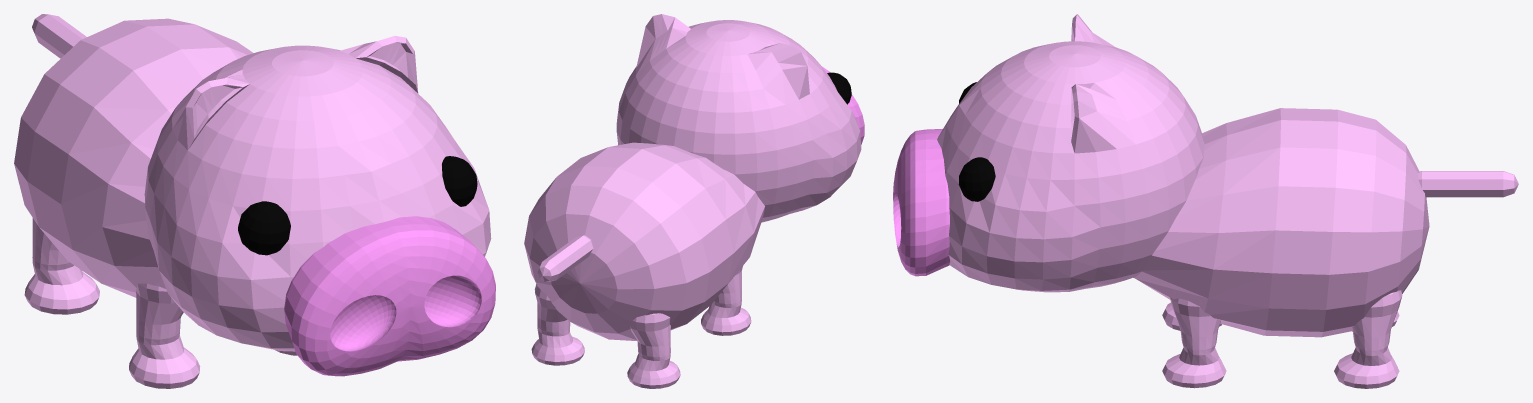
Rendered from Buta01.fbx.
3 views of the same model, side by side, from view 1: azimuth 30°, elevation 25°; view 2: azimuth 150°, elevation 25°; view 3: azimuth 270°, elevation 25° (orthographic). The views are drawn at different scales.
Parts seen in each view (by area): view 1: Head, Body, ポリゴンメッシュ, Hand, Leg, Eyes, Tale; view 2: Body, Head, Leg, Hand, Tale, Eyes, ポリゴンメッシュ; view 3: Head, Body, ポリゴンメッシュ, Hand, Leg, Tale, Eyes.
Part boxes in pixels (x1=…): Head: x1=144, y1=35, x2=491, y2=351; Body: x1=14, y1=18, x2=253, y2=297; ポリゴンメッシュ: x1=284, y1=216, x2=495, y2=376; Hand: x1=129, y1=283, x2=296, y2=388; Leg: x1=24, y1=218, x2=99, y2=314; Eyes: x1=238, y1=156, x2=477, y2=255; Tale: x1=32, y1=14, x2=86, y2=58; Body: x1=524, y1=142, x2=765, y2=340; Head: x1=616, y1=14, x2=861, y2=222; Leg: x1=531, y1=284, x2=680, y2=388; Hand: x1=701, y1=266, x2=751, y2=335; Tale: x1=537, y1=235, x2=593, y2=281; Eyes: x1=827, y1=72, x2=851, y2=104; ポリゴンメッシュ: x1=822, y1=66, x2=864, y2=144; Head: x1=937, y1=14, x2=1204, y2=292; Body: x1=1133, y1=108, x2=1429, y2=337; ポリゴンメッシュ: x1=893, y1=129, x2=950, y2=276; Hand: x1=1162, y1=297, x2=1226, y2=388; Leg: x1=1334, y1=290, x2=1402, y2=388; Tale: x1=1417, y1=171, x2=1518, y2=197; Eyes: x1=958, y1=82, x2=995, y2=201.
Size of the model in its own units: 84.2 by 95.59 by 180.
